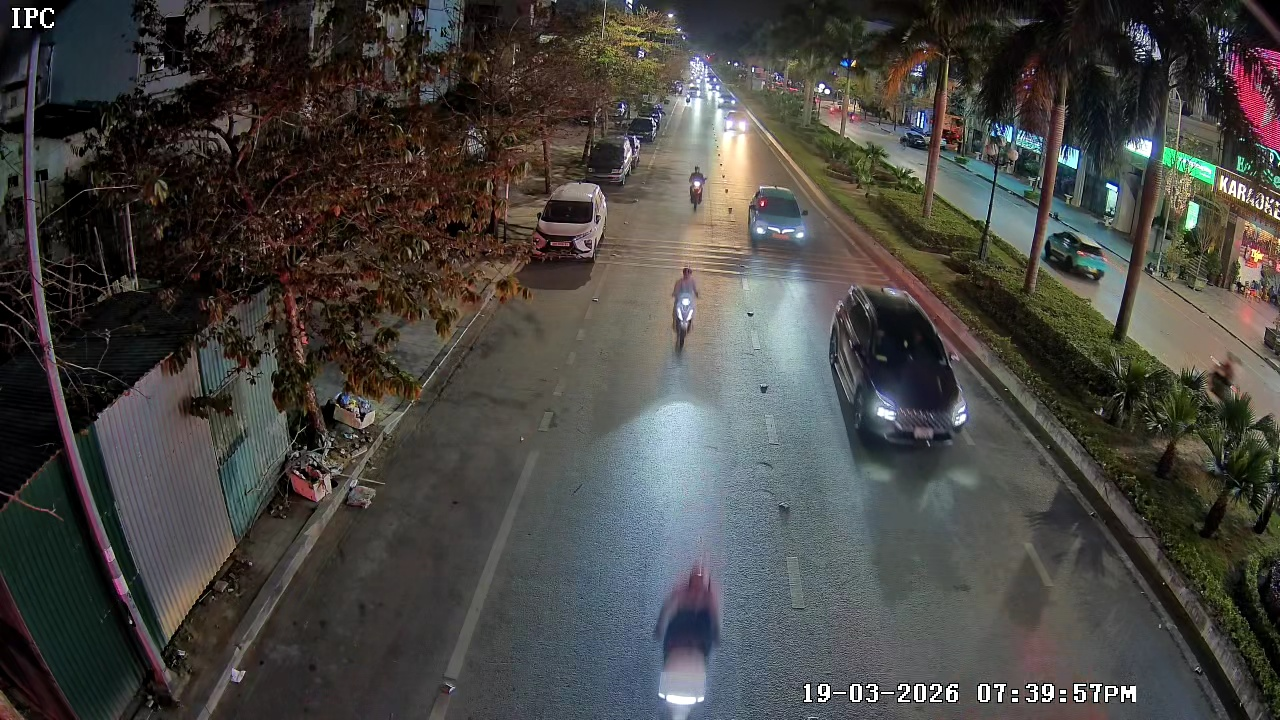car: (827, 282, 969, 450), (532, 180, 609, 264), (746, 182, 812, 253), (581, 131, 641, 187), (723, 108, 746, 134)
motorbike: (668, 264, 702, 354), (687, 162, 708, 212)
